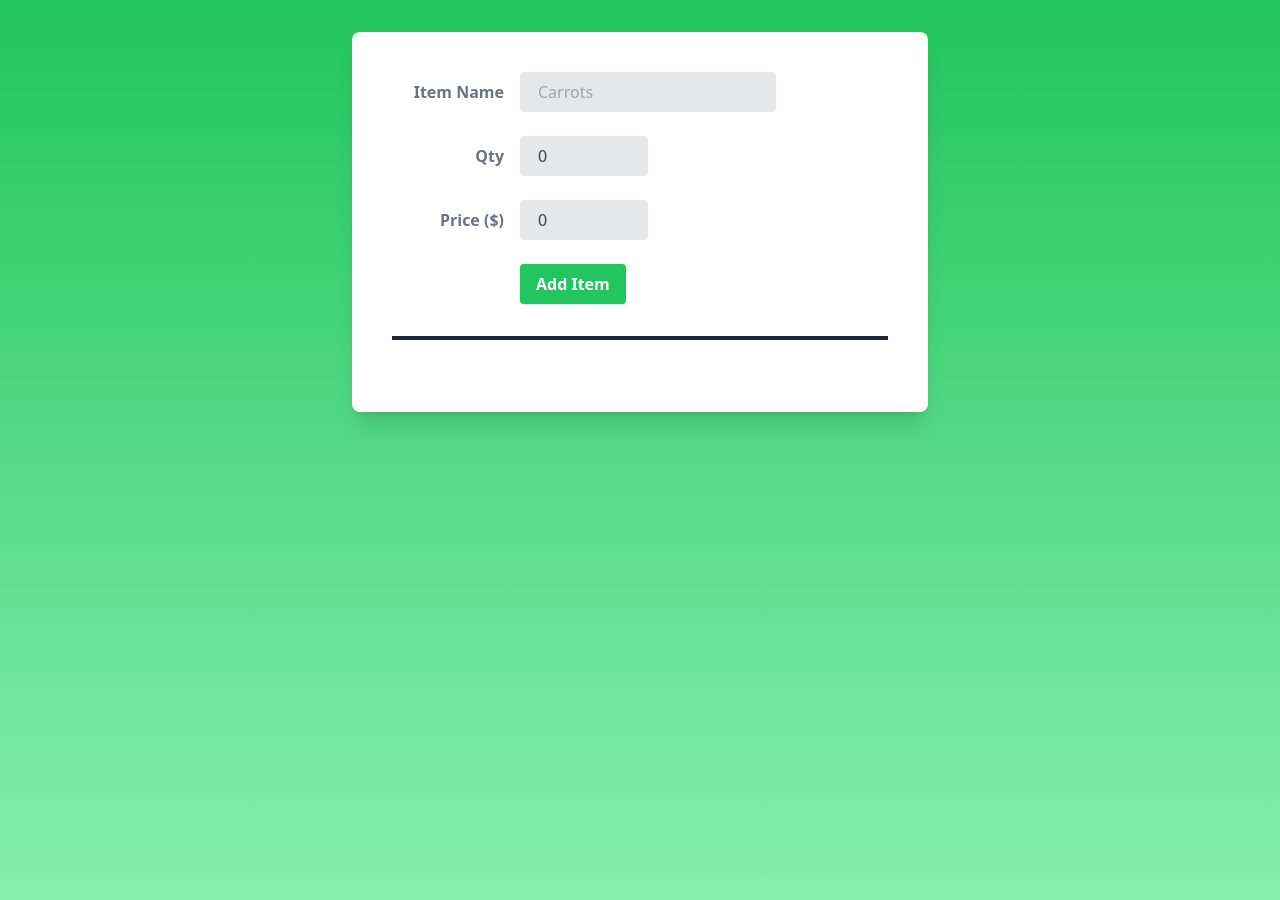
it: Deletes an item in the list
In the field labelled "Item Name": point(648, 92) [520,72,776,112], type "Tomatoes"
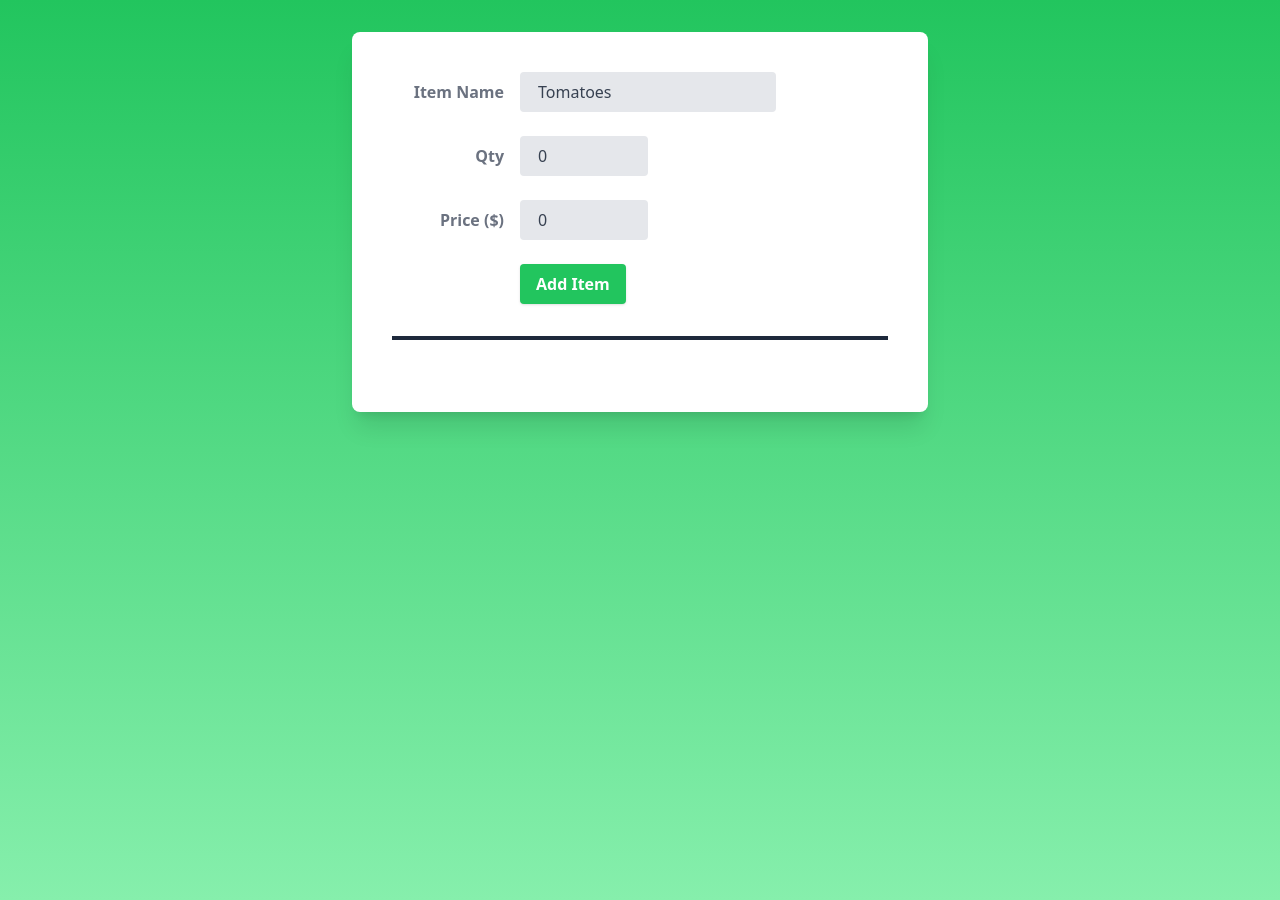
Replace the text in the number field labelled "Qty" with "7": point(584, 156) [520,136,648,176]
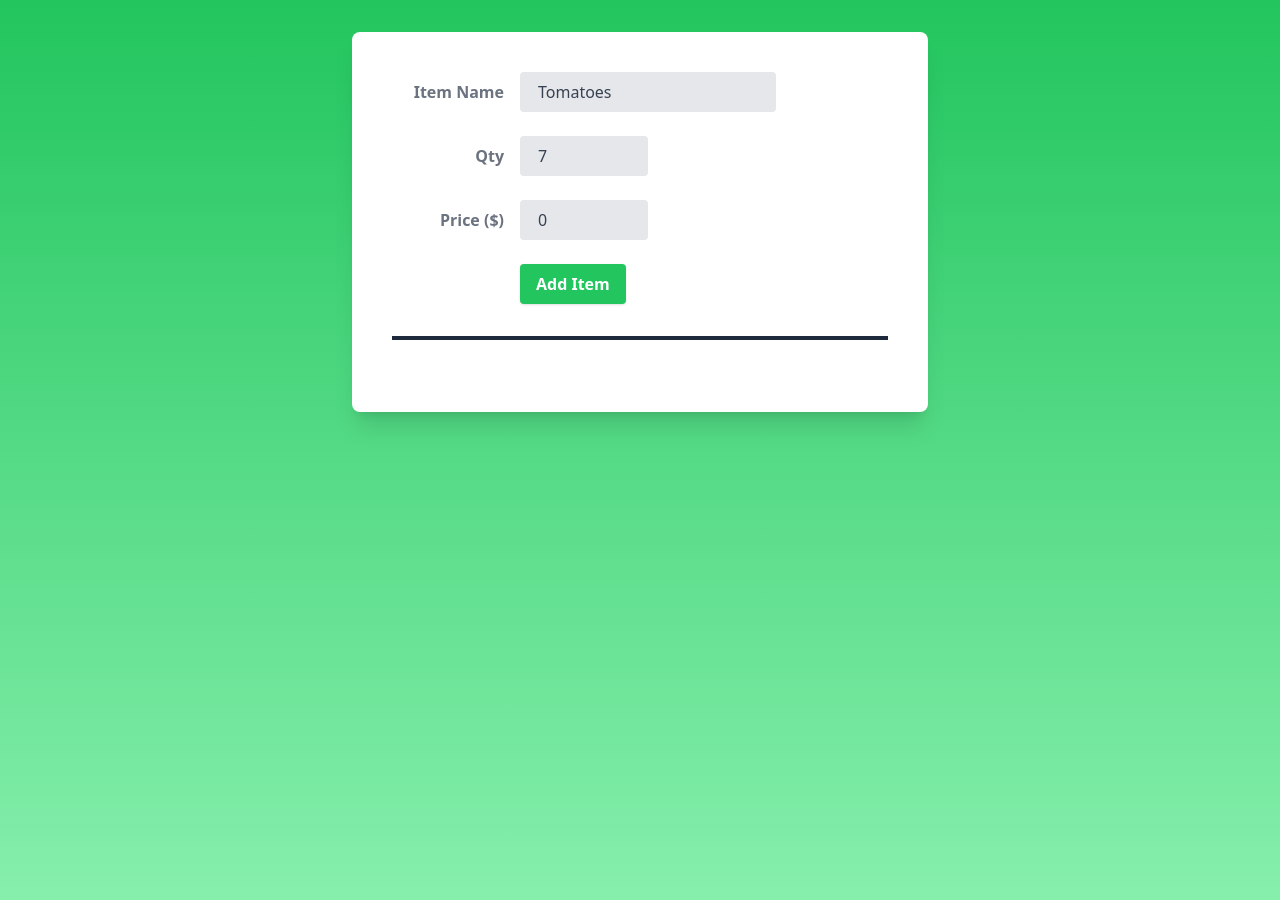
Replace the text in the number field labelled "Price ($)" with "100": point(584, 220) [520,200,648,240]
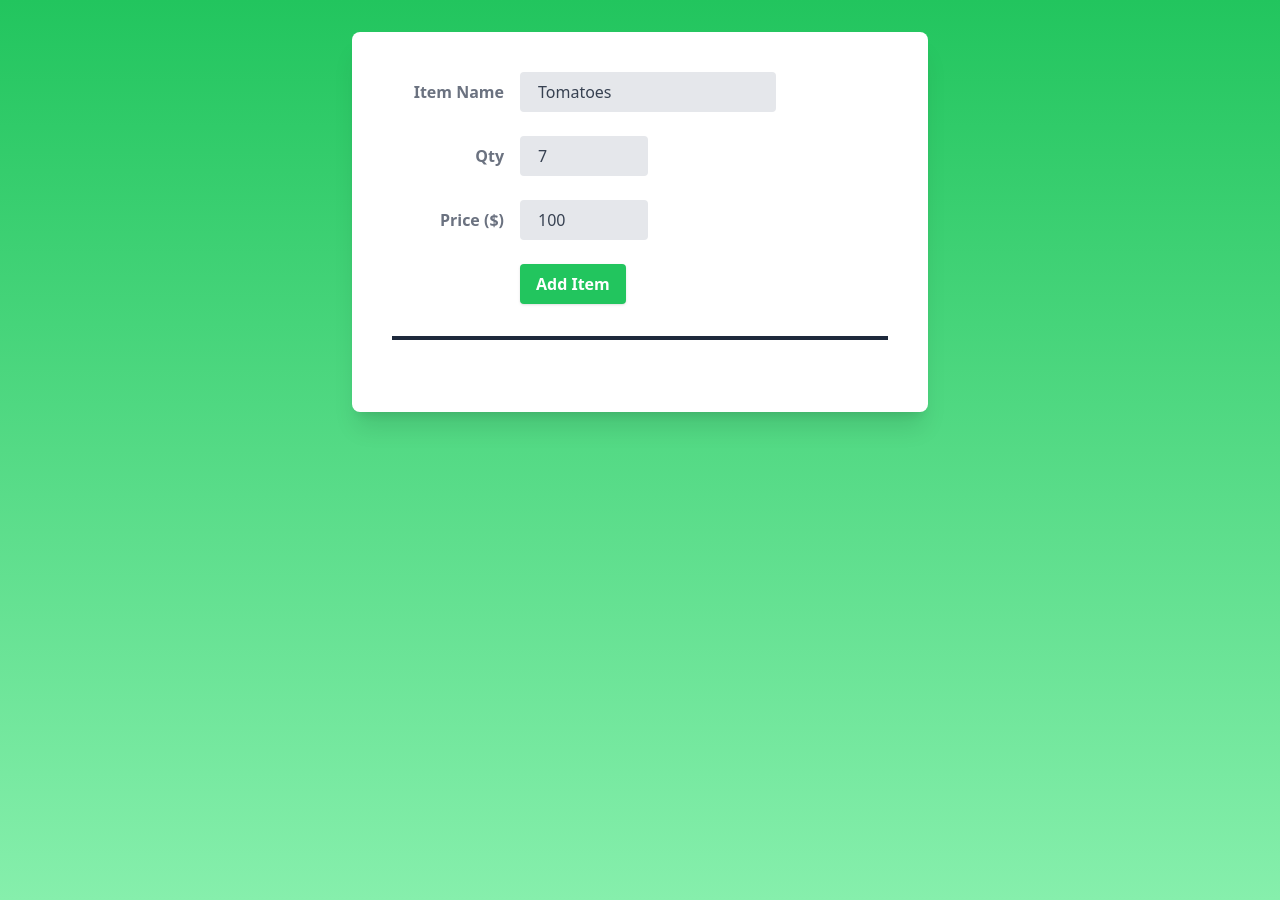
Click the button "Add Item": point(573, 284) [520,264,626,304]
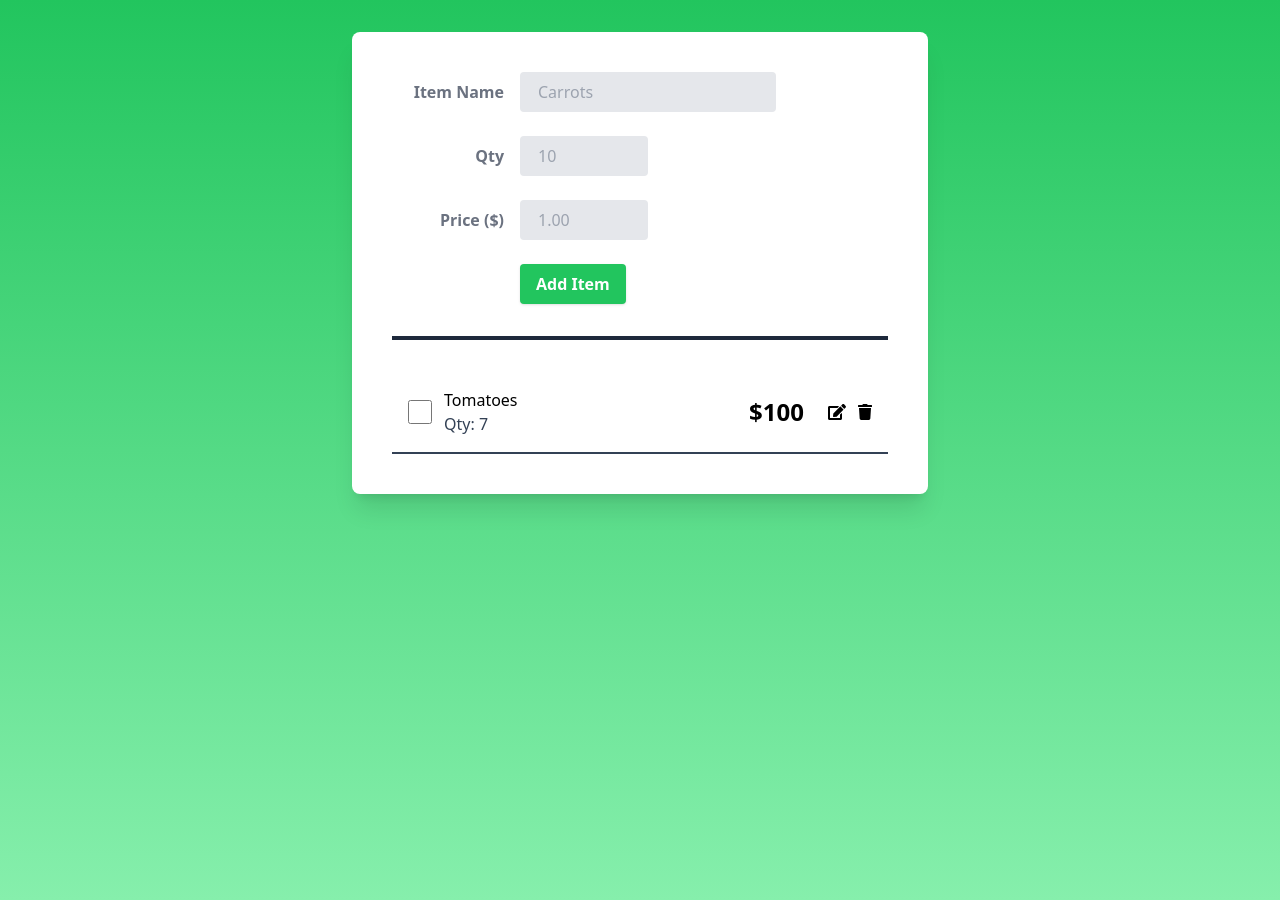
Expected: the text "Tomatoes Qty: 7" is shown, [444,389,518,435]
Expected: the text "Qty: 7" is shown, [444,413,488,435]
Expected: the text "$100" is shown, [749,396,804,428]
Click the button with test id "deleteBtn": point(865, 412) [858,400,872,424]
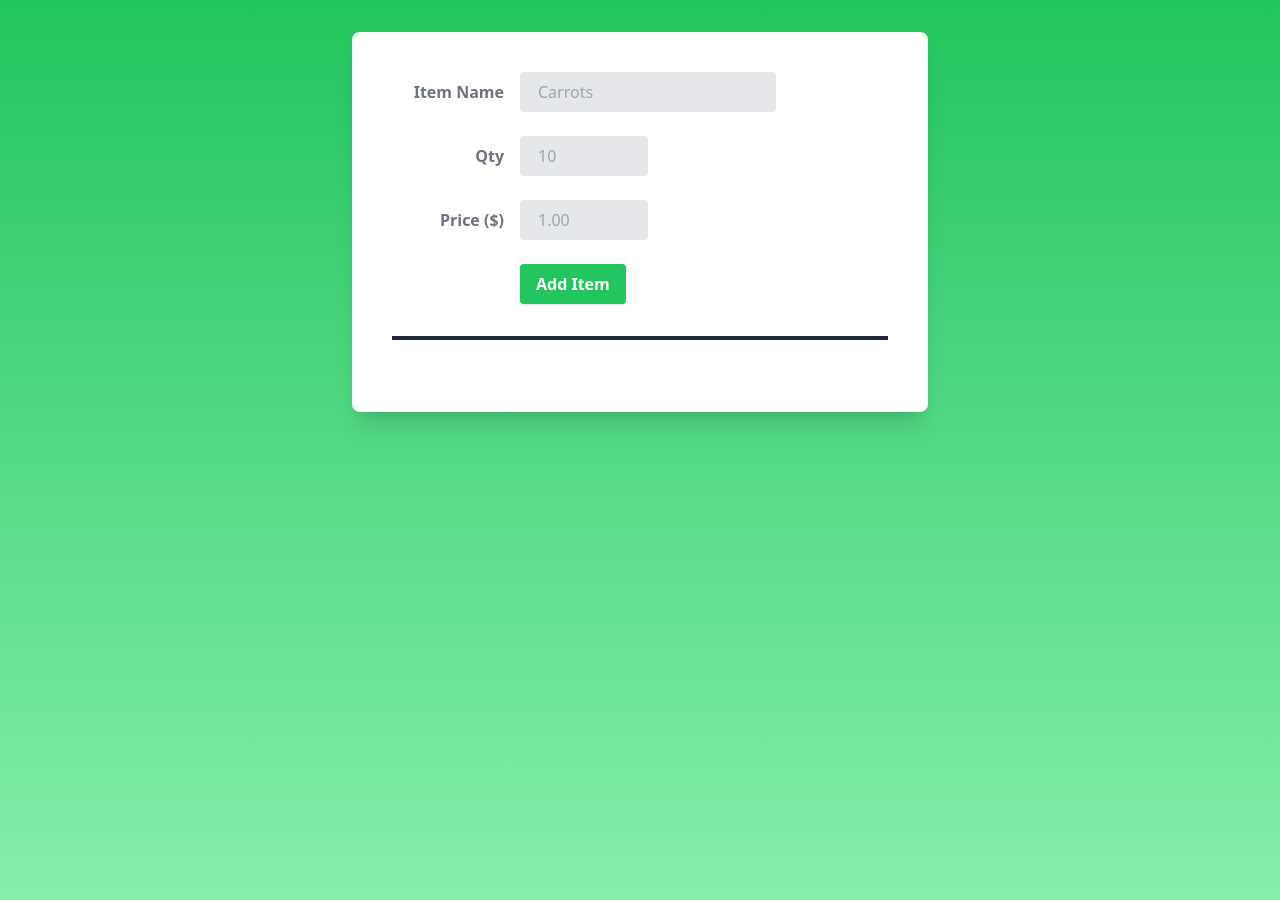
Expected: the text "Tomatoes" is gone
Expected: the text "Qty: 7" is gone
Expected: the text "$100" is gone
